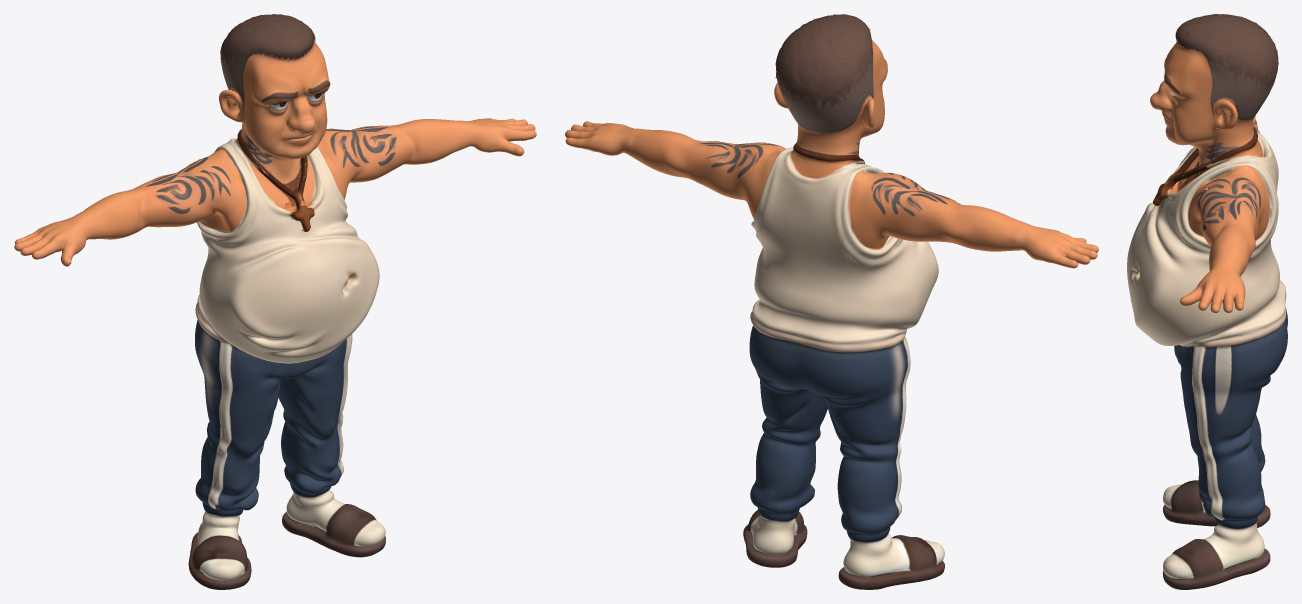
The model's file is neighbor_tpose.glb.
The picture shows the model from 3 angles, left to right: view 1: azimuth 30°, elevation 25°; view 2: azimuth 150°, elevation 25°; view 3: azimuth 270°, elevation 25°; orthographic projection. The views are drawn at different scales.
Visible parts, largest first — view 1: tripo_node_fc0067e8-2473-4354-8a63-e1089cfc51b3; view 2: tripo_node_fc0067e8-2473-4354-8a63-e1089cfc51b3; view 3: tripo_node_fc0067e8-2473-4354-8a63-e1089cfc51b3.
Boxes of the visible parts, left/top/right/bottom form: tripo_node_fc0067e8-2473-4354-8a63-e1089cfc51b3: left=14, top=14, right=536, bottom=589; tripo_node_fc0067e8-2473-4354-8a63-e1089cfc51b3: left=565, top=14, right=1098, bottom=589; tripo_node_fc0067e8-2473-4354-8a63-e1089cfc51b3: left=1127, top=14, right=1287, bottom=589.
Bounding box in the file's own units: 0.9785 × 0.9684 × 0.2669.
1 material, 1 textured.
